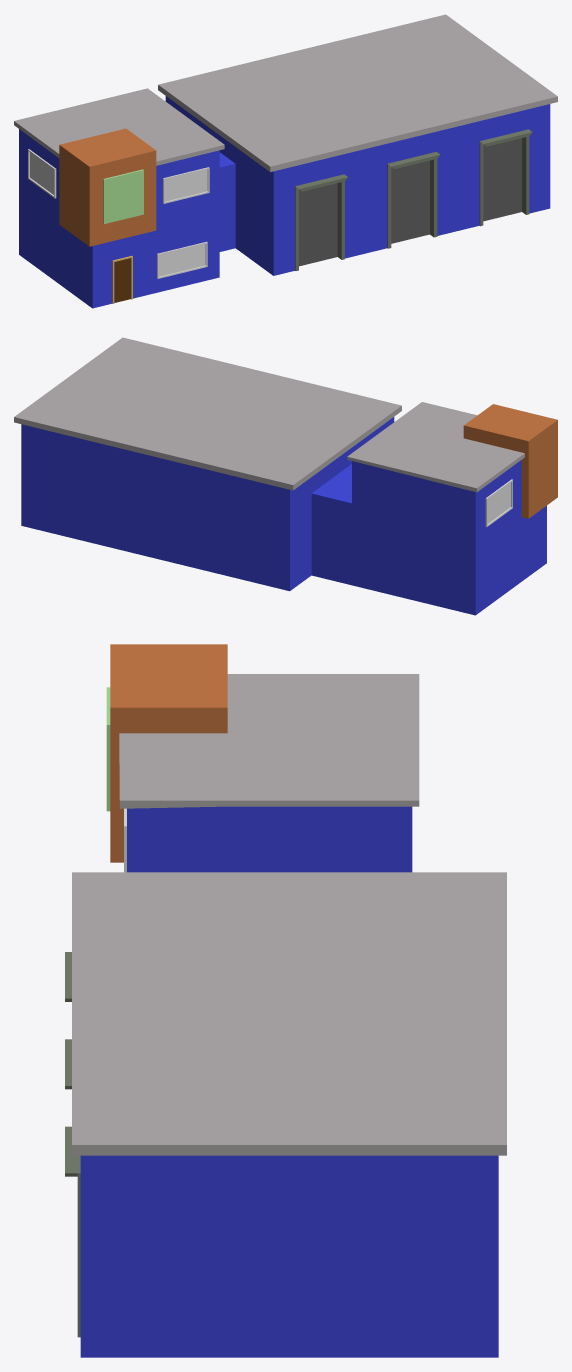
The model's file is Post_office.fbx.
3 renders of one model, top to bottom at view 1: azimuth 30°, elevation 25°; view 2: azimuth 150°, elevation 25°; view 3: azimuth 270°, elevation 25°, orthographic. The views are drawn at different scales.
Parts seen in each view (by area): view 1: Cube; view 2: Cube; view 3: Cube.
Boxes of the visible parts, x1,y1,x2,y2 form: Cube: (14, 14, 557, 308); Cube: (14, 337, 557, 615); Cube: (65, 644, 506, 1357).
Bounding box in the file's own units: 720 × 220 × 310.
